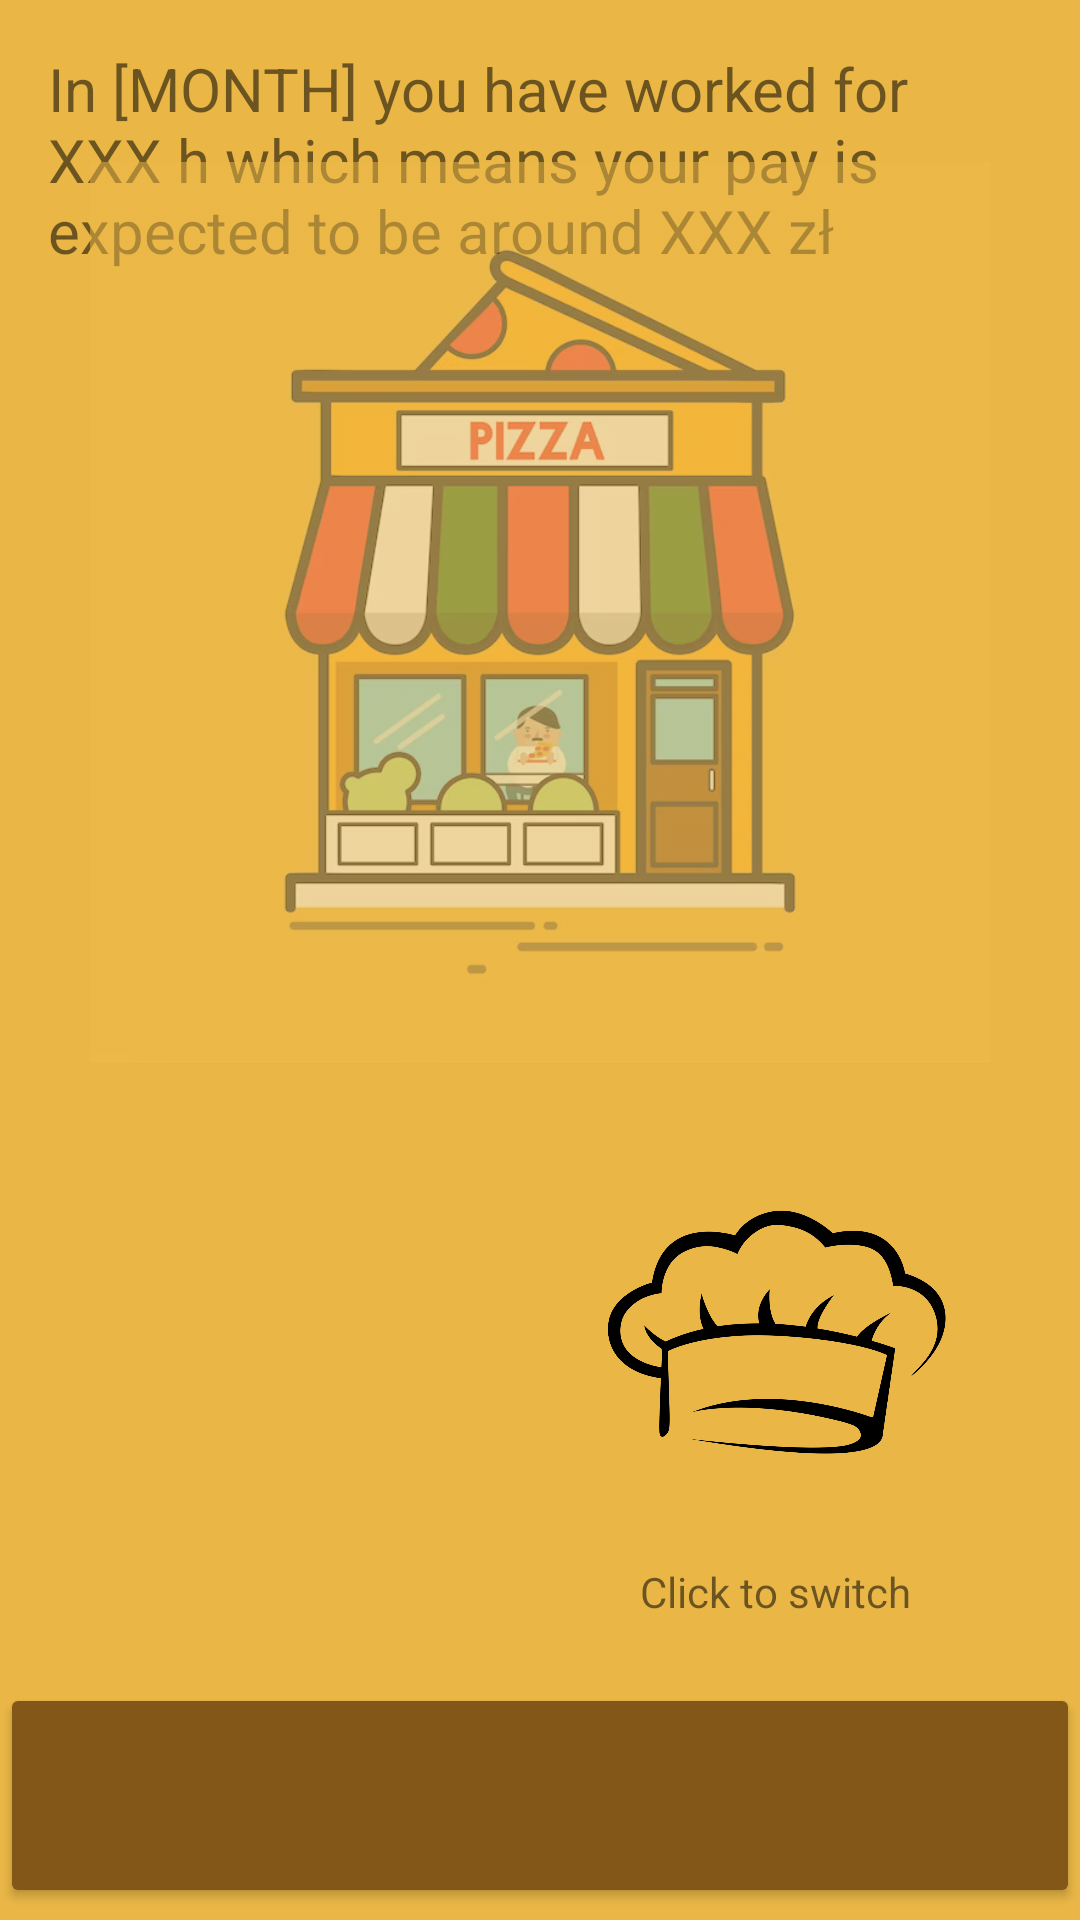

Point at icon controls on the screen. Image size 1080 × 1920, points as (x,y).
cookinghat: (777,1332)
